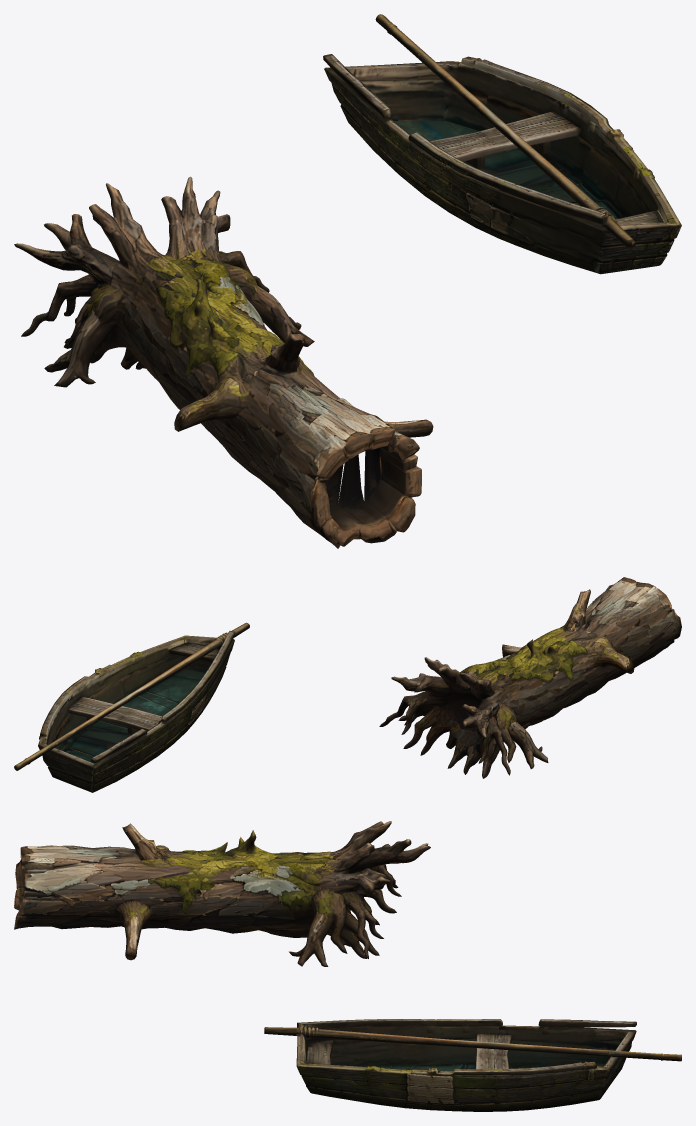
File: act1_kit_v1_R12_fen_trunk_punt.glb
3 renders of one model, top to bottom at view 1: azimuth 30°, elevation 25°; view 2: azimuth 150°, elevation 25°; view 3: azimuth 270°, elevation 25°, orthographic. The views are drawn at different scales.
Visible parts, largest first — view 1: tripo_96f4e46a_467c_4c4e_95a0_aed65c20ae77; view 2: tripo_96f4e46a_467c_4c4e_95a0_aed65c20ae77; view 3: tripo_96f4e46a_467c_4c4e_95a0_aed65c20ae77.
Boxes of the visible parts, left/top/right/bottom form: tripo_96f4e46a_467c_4c4e_95a0_aed65c20ae77: left=14, top=14, right=681, bottom=548; tripo_96f4e46a_467c_4c4e_95a0_aed65c20ae77: left=14, top=577, right=681, bottom=792; tripo_96f4e46a_467c_4c4e_95a0_aed65c20ae77: left=14, top=821, right=681, bottom=1111.
Size of the model in its own units: 0.7612 by 0.1968 by 0.9995.
Materials: 1 (1 with a texture image).
